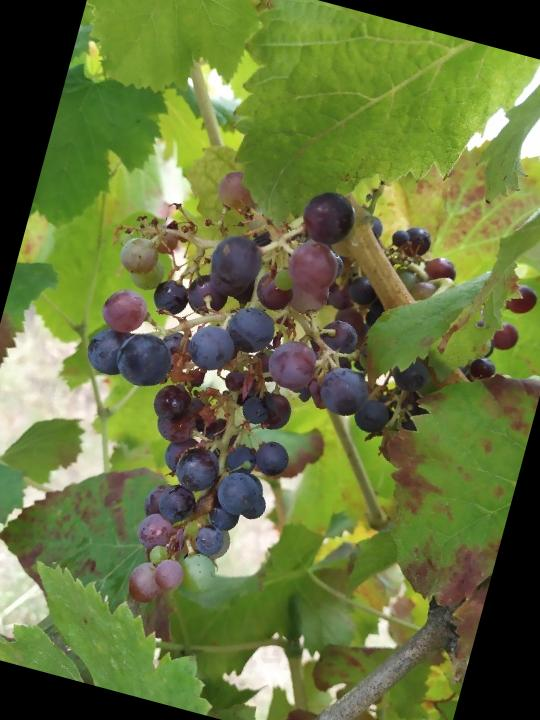grape: (13, 138, 540, 686)
